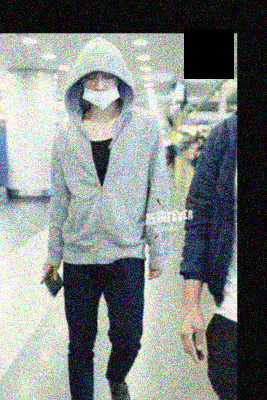mask_weared_incorrect: (81, 73, 121, 110)
